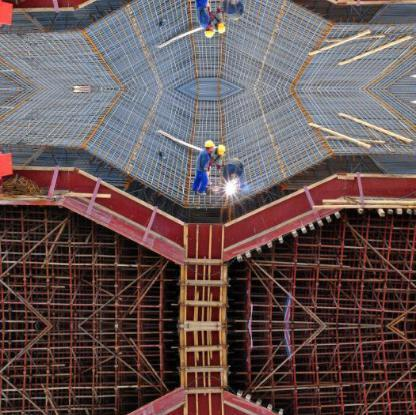helmet: (200, 134, 217, 152), (214, 144, 229, 160)
